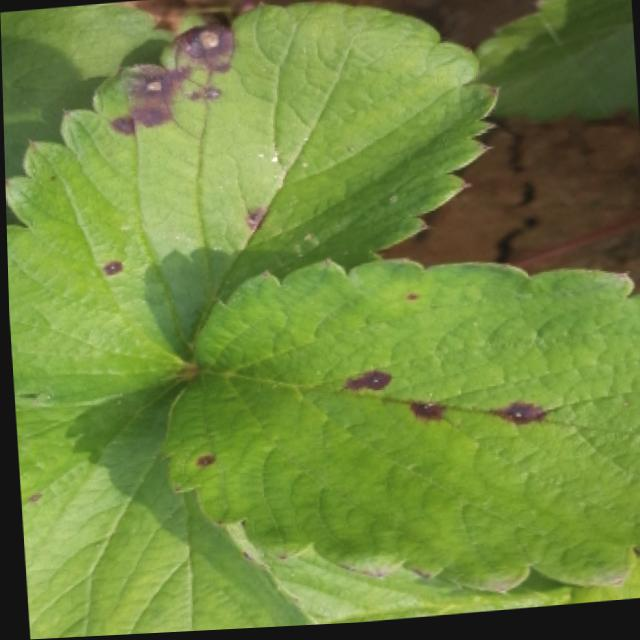Leaf Spot: (4, 2, 498, 407), (156, 260, 640, 599), (12, 378, 320, 640)
